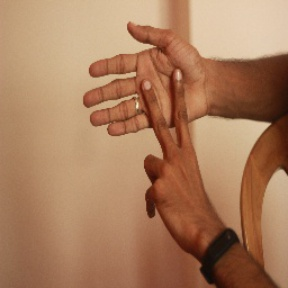N: (82, 19, 214, 190)
